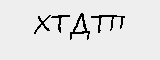Д: (70, 10, 92, 41)
П: (106, 13, 127, 34)
Т: (50, 11, 70, 33), (93, 14, 108, 32)
Х: (32, 13, 51, 34)
